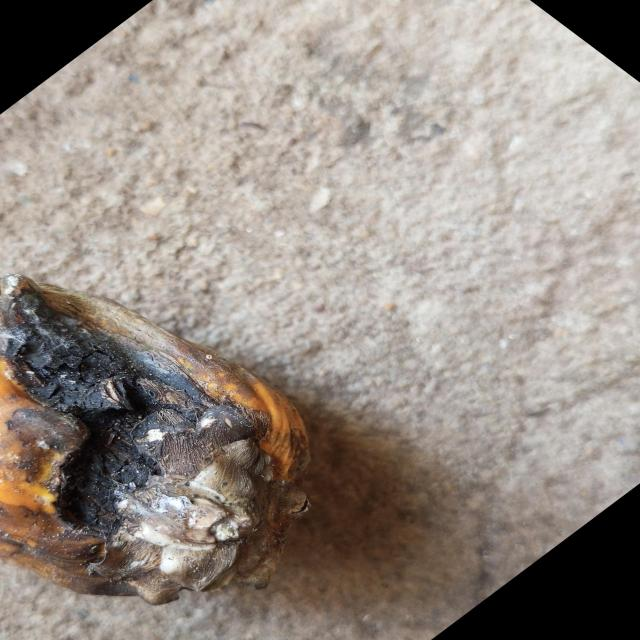damaged: (0, 275, 309, 604)
